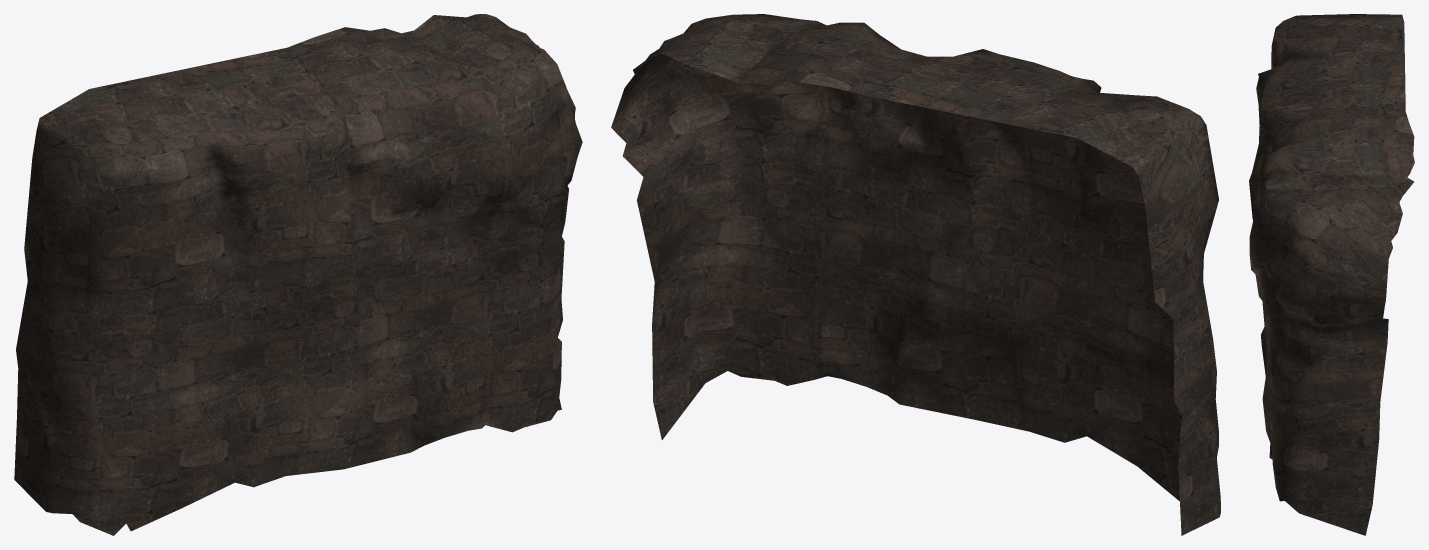
The model's file is aeg270_521.glb.
3 renders of one model, left to right at view 1: azimuth 30°, elevation 25°; view 2: azimuth 150°, elevation 25°; view 3: azimuth 270°, elevation 25°, orthographic. The views are drawn at different scales.
Visible parts, largest first — view 1: mesh[0]; view 2: mesh[0]; view 3: mesh[0].
Boxes of the visible parts, x1,y1,x2,y2 form: mesh[0]: [14, 14, 582, 535]; mesh[0]: [611, 14, 1220, 535]; mesh[0]: [1249, 14, 1414, 535].
Bounding box in the file's own units: 18.16 × 12.97 × 5.71.
1 material, 1 textured.
